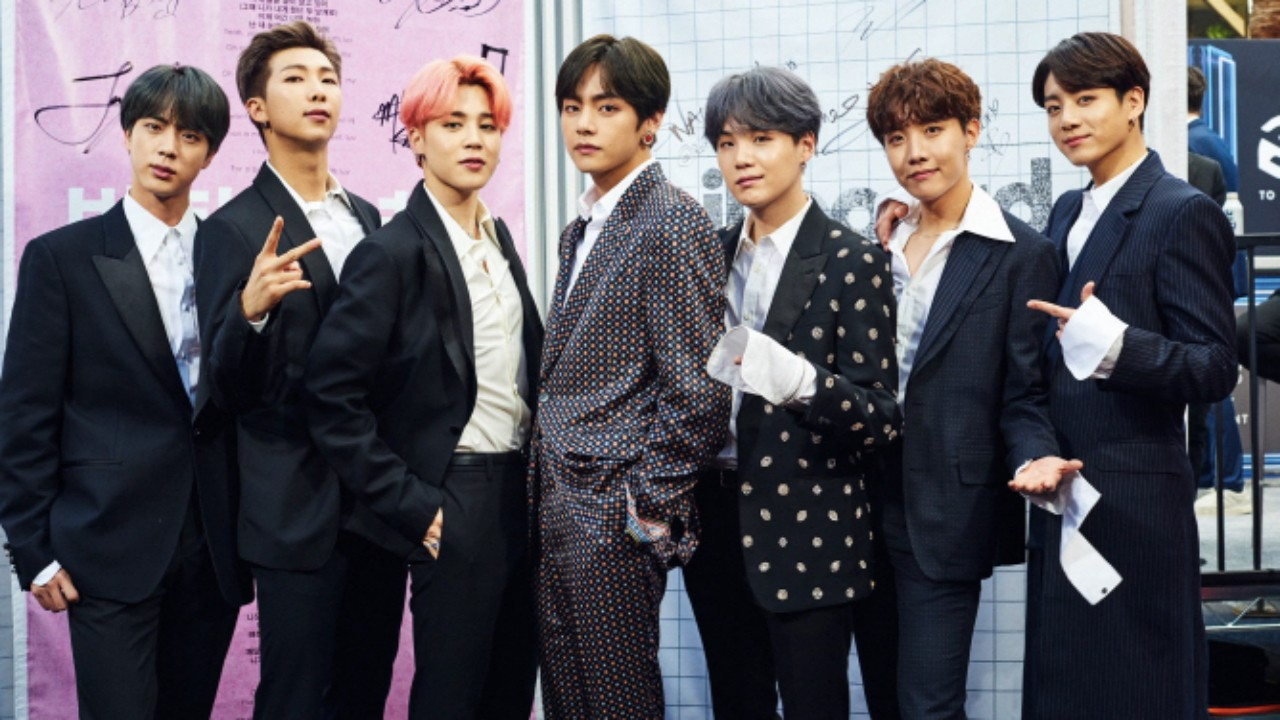people: (1033, 37, 1200, 720), (231, 20, 386, 717), (702, 71, 857, 717), (397, 55, 537, 720), (84, 66, 226, 709), (544, 33, 675, 720), (862, 60, 997, 720), (1189, 66, 1246, 507)
